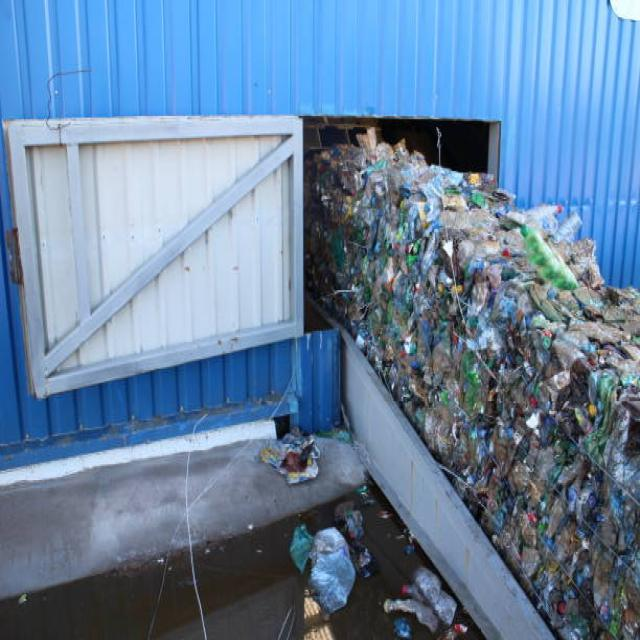plastic: (359, 152, 619, 555)
